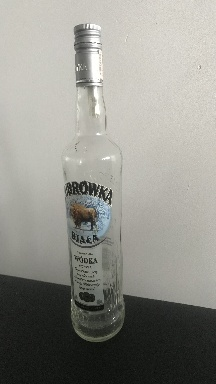butelka: (58, 19, 126, 345)
